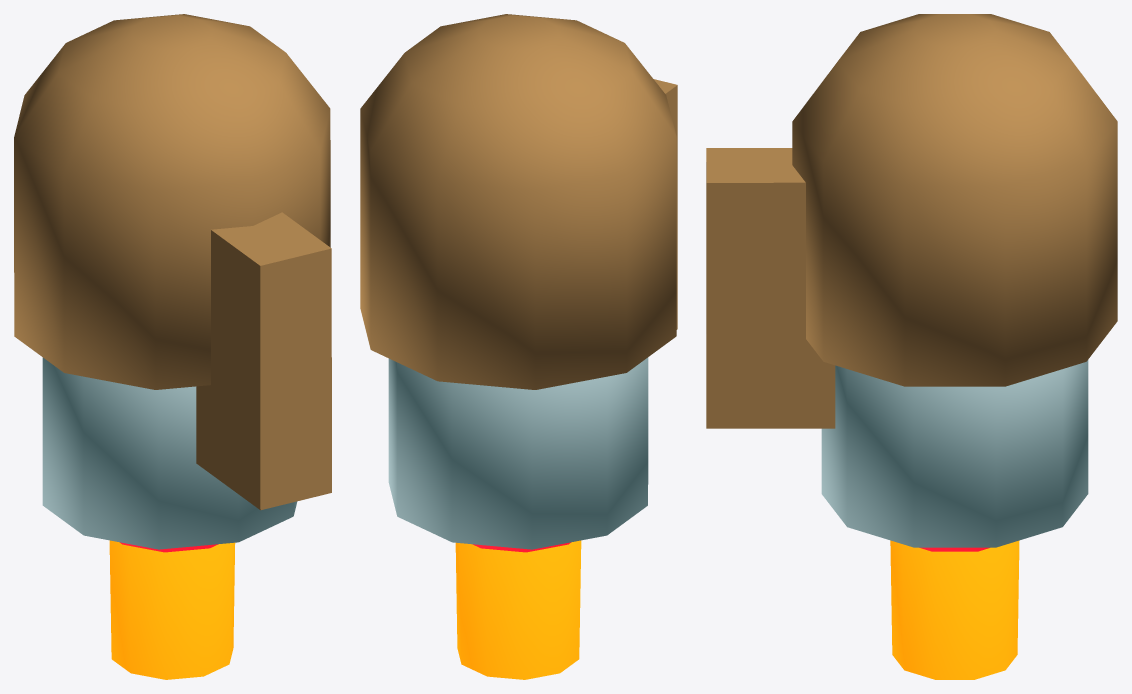
File: directional.glb
3 views of the same model, side by side, from view 1: azimuth 30°, elevation 25°; view 2: azimuth 150°, elevation 25°; view 3: azimuth 270°, elevation 25° (orthographic).
Parts seen in each view (by area): view 1: Cylinder.025, boost-part.002; view 2: Cylinder.025, boost-part.002; view 3: Cylinder.025, boost-part.002.
Part boxes in pixels (<box>): Cylinder.025: <box>14,14,331,552</box>; boost-part.002: <box>109,540,235,679</box>; Cylinder.025: <box>360,14,677,552</box>; boost-part.002: <box>455,540,581,679</box>; Cylinder.025: <box>706,14,1117,551</box>; boost-part.002: <box>890,540,1019,679</box>.
Size of the model in its own units: 0.1072 by 0.2387 by 0.1426.
